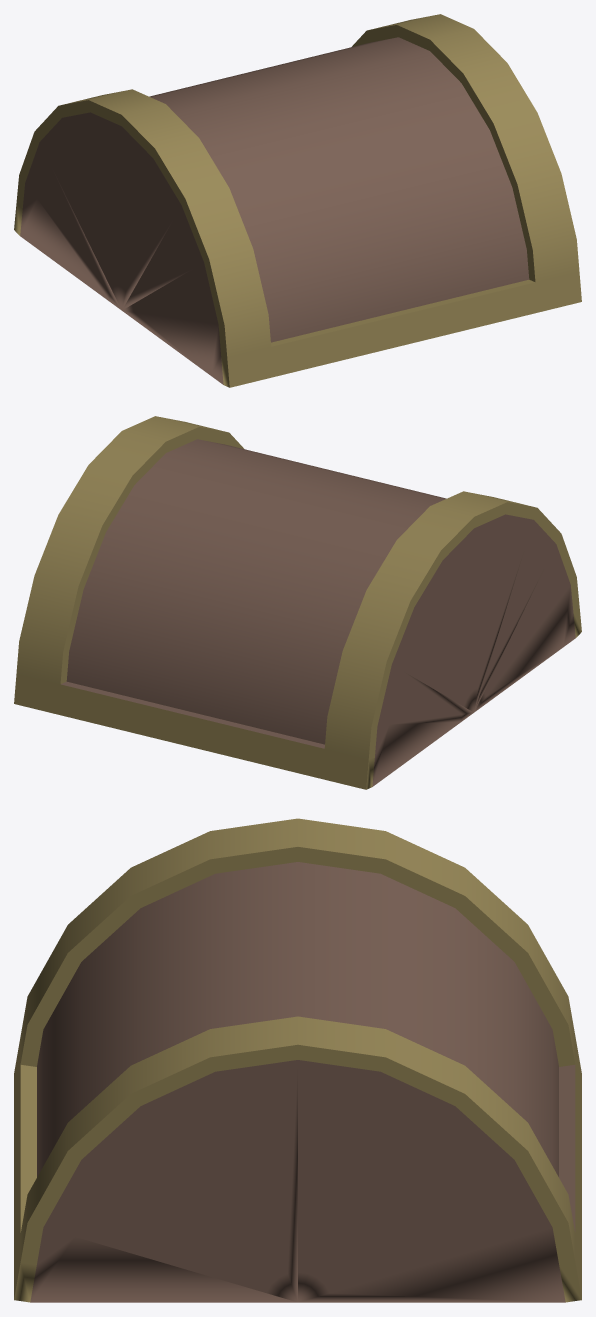
The model's file is SQ_Object_Chest_Top.fbx.
The picture shows the model from 3 angles, top to bottom: view 1: azimuth 30°, elevation 25°; view 2: azimuth 150°, elevation 25°; view 3: azimuth 270°, elevation 25°; orthographic projection. The views are drawn at different scales.
Parts seen in each view (by area): view 1: pCylinder1; view 2: pCylinder1; view 3: pCylinder1.
Part boxes in pixels (left/top/right/bottom): pCylinder1: left=14, top=14, right=581, bottom=387; pCylinder1: left=14, top=416, right=581, bottom=789; pCylinder1: left=14, top=818, right=581, bottom=1302.
Bounding box in the file's own units: 6.49 × 3.45 × 6.89.
